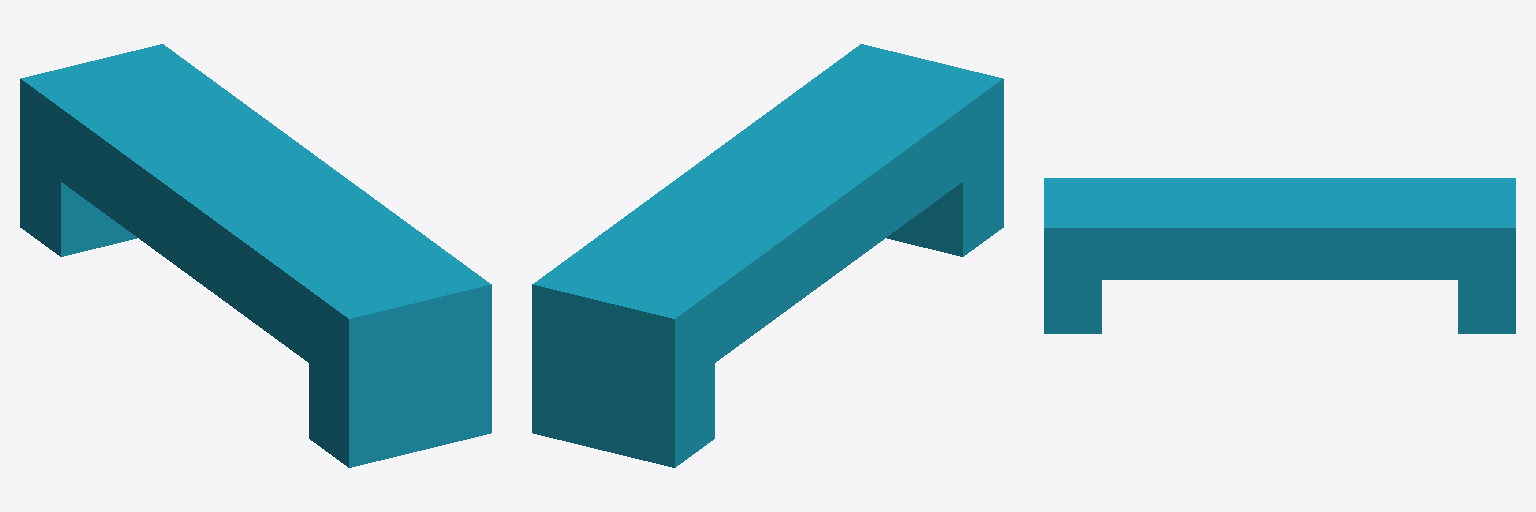
robot.urdf — obj_4:
<robot name="obj_4" version="1.0">
  <link name="obj_4">
    <collision name="interlocking-puzzle-2-2-collision.001">
      <origin rpy="0.00000 0.00000 0.00000" xyz="-0.41016 0.22847 0.40324"/>
      <geometry>
        <mesh filename="../meshes/obj/interlocking-puzzle-2-2-collision.001.obj" scale="2.09740 2.08327 2.09740"/>
      </geometry>
    </collision>
    <collision name="interlocking-puzzle-2-2-collision.002">
      <origin rpy="0.00000 0.00000 0.00000" xyz="-0.41731 0.76163 0.39711"/>
      <geometry>
        <mesh filename="../meshes/obj/interlocking-puzzle-2-2-collision.002.obj" scale="2.09740 2.07822 2.09740"/>
      </geometry>
    </collision>
    <collision name="interlocking-puzzle-2-2-collision.003">
      <origin rpy="0.00000 0.00000 0.00000" xyz="-0.41073 0.51989 0.44109"/>
      <geometry>
        <mesh filename="../meshes/obj/interlocking-puzzle-2-2-collision.003.obj" scale="2.09740 2.09740 2.09740"/>
      </geometry>
    </collision>
    <inertial>
      <inertia ixx="0.00526" ixy="0.00000" ixz="0.00000" iyy="0.00055" iyz="-0.00000" izz="0.00518"/>
      <origin rpy="0.00000 0.00000 0.00000" xyz="-0.41731 0.49367 0.42087"/>
      <mass value="0.03000"/>
    </inertial>
    <visual name="interlocking-puzzle-2-2">
      <material name="Light Blue"/>
      <origin rpy="-1.57080 0.00000 -1.57080" xyz="-0.41731 0.49367 0.37750"/>
      <geometry>
        <mesh filename="../meshes/obj/interlocking-puzzle-2.001.obj" scale="0.01049 0.01049 0.01049"/>
      </geometry>
    </visual>
  </link>
  <material name="Light Blue">
    <color rgba="0.15294 0.68627 0.80000 1.00000"/>
  </material>
</robot>

--- Facts derived from the render (not from the file) ---
3 views of the same robot in one strip: view 1: azimuth 30°, elevation 25°; view 2: azimuth 150°, elevation 25°; view 3: azimuth 270°, elevation 25° (orthographic).
Model obj_4 with 1 links and 0 joints (none), rooted at obj_4, posed all joints at 0.
Links seen in each view (by area): view 1: obj_4; view 2: obj_4; view 3: obj_4.
Link boxes in pixels (x1,y1,x2,y2): obj_4: (20, 44, 491, 467); obj_4: (532, 44, 1003, 467); obj_4: (1044, 178, 1515, 333).
Bounding box of the posed robot: 0.1574 × 0.6294 × 0.1574 m (x, y, z).
Meshes: 1 distinct files referenced, 1 mesh visuals loaded (1 OBJ).